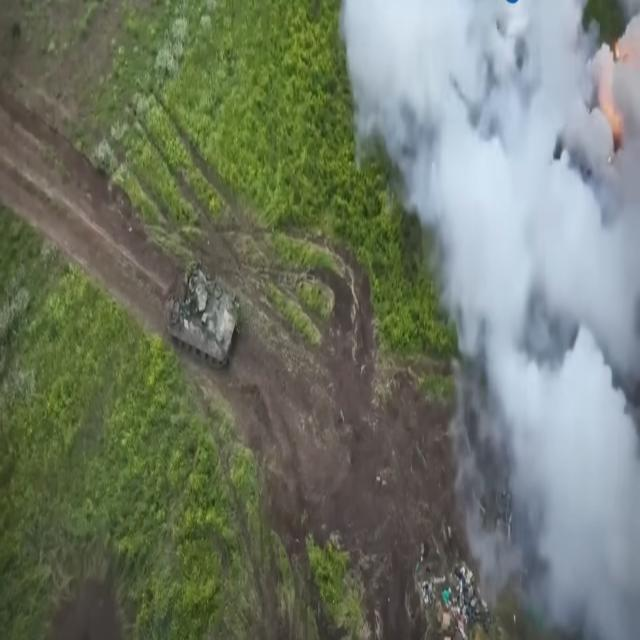AIFV: (166, 253, 243, 375)
